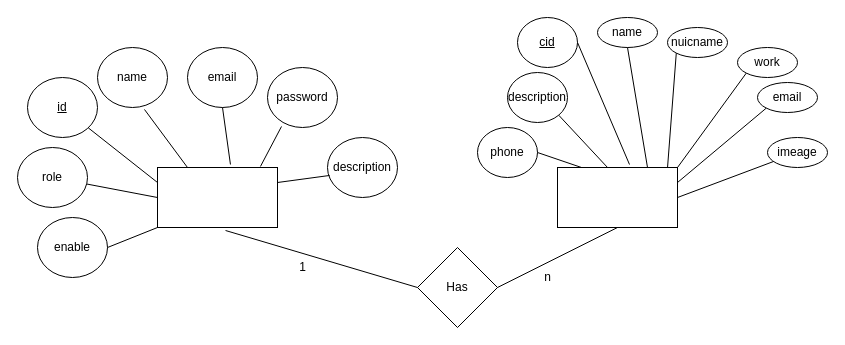
The diagram is 845 pixels wide and 345 high, and some of its shapes have lost their labels. Here are the shapes that lost their labels. From the top down, the centre of each, then its label:
At pixel 217 197: "user".
At pixel 617 197: "contact".
